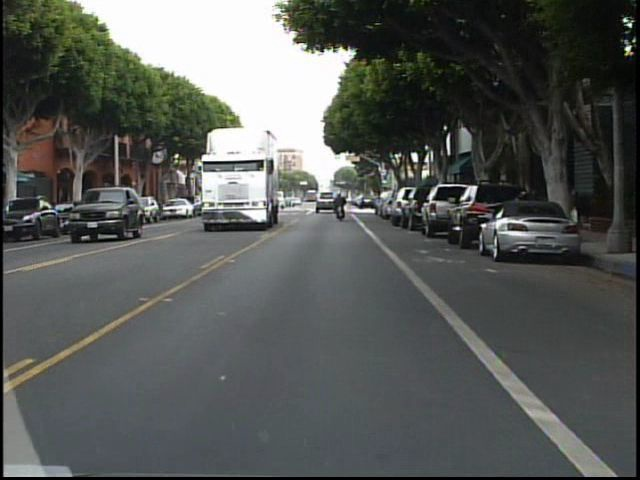person: (331, 191, 350, 222)
